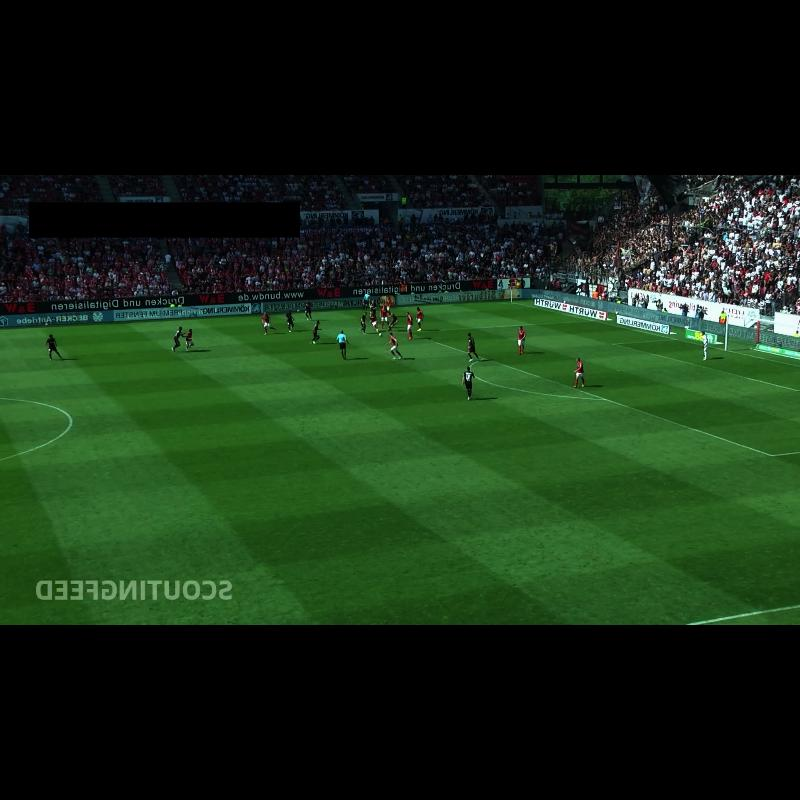cross_recipient_zone: (406, 321, 800, 455)
crossing_player_zone: (529, 451, 800, 611), (198, 302, 594, 342)
pitch: (0, 302, 800, 625)
